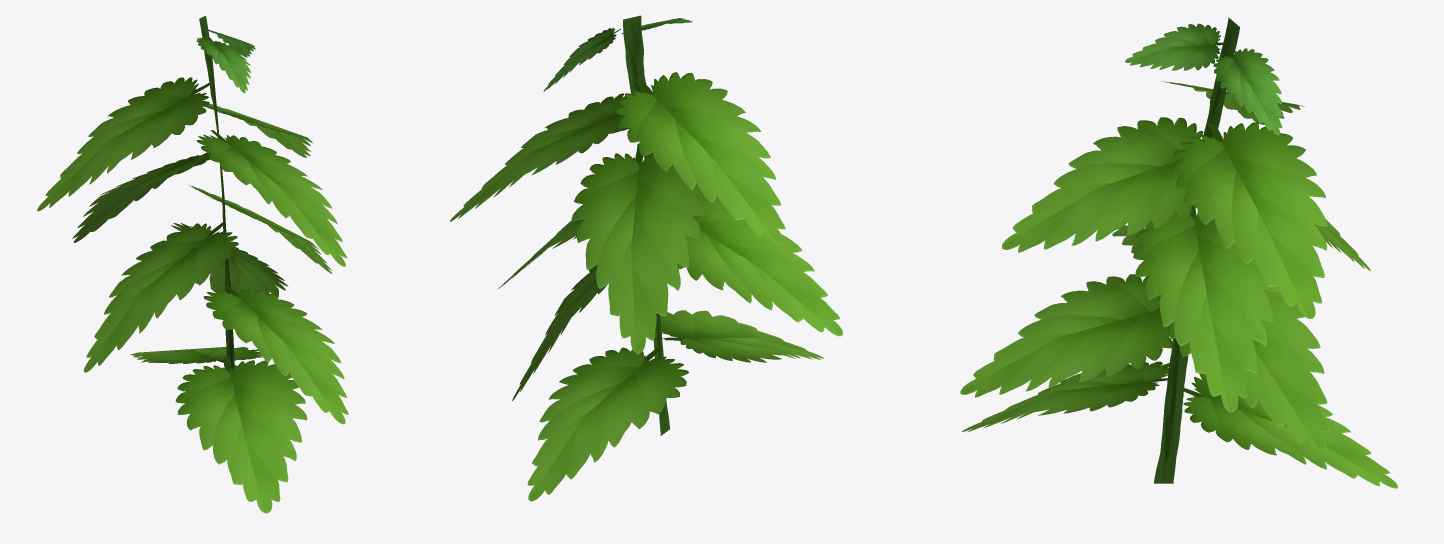
File: nettle.fbx
3 views of the same model, side by side, from view 1: azimuth 30°, elevation 25°; view 2: azimuth 150°, elevation 25°; view 3: azimuth 270°, elevation 25° (orthographic). The views are drawn at different scales.
Parts seen in each view (by area): view 1: polySurface2; view 2: polySurface2; view 3: polySurface2.
Boxes of the visible parts, x1,y1,x2,y2 form: polySurface2: (37,15,348,513); polySurface2: (450,15,842,501); polySurface2: (960,18,1397,488).
Size of the model in its own units: 8.34 by 9.58 by 9.5.
